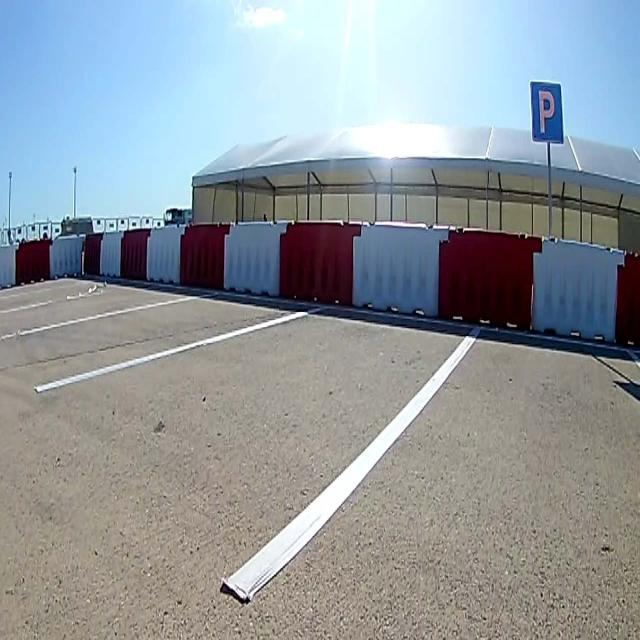park: (530, 79, 564, 146)
